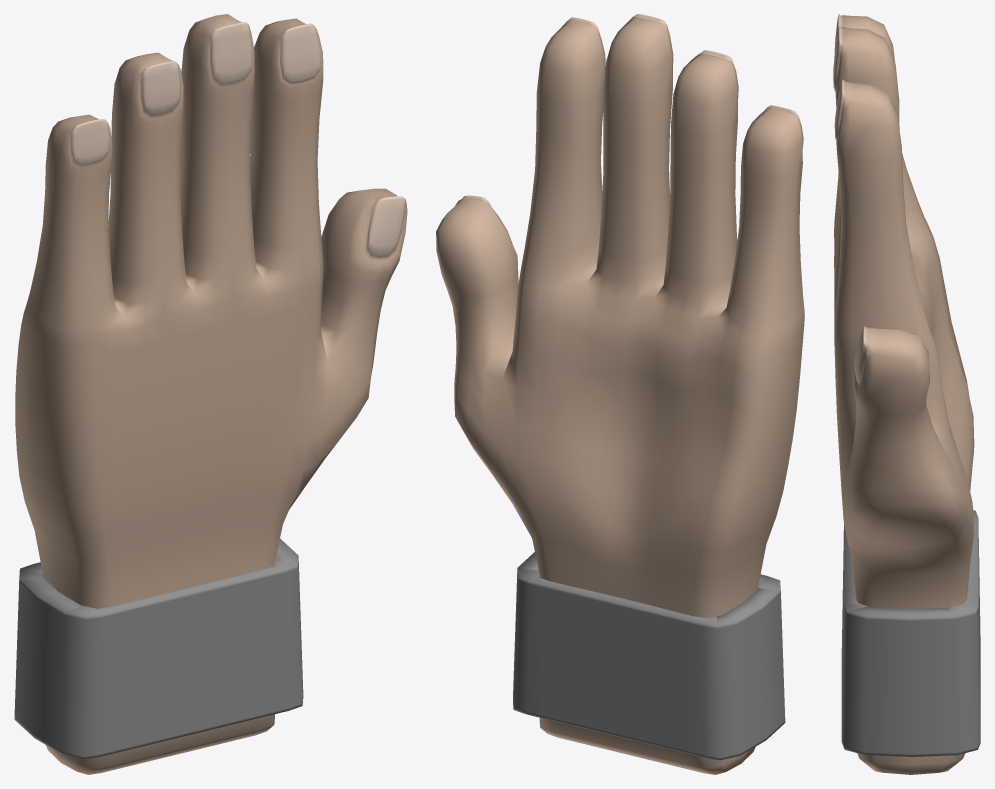
Rendered from leftHand.fbx.
The picture shows the model from 3 angles, left to right: view 1: azimuth 30°, elevation 25°; view 2: azimuth 150°, elevation 25°; view 3: azimuth 270°, elevation 25°; orthographic projection. The views are drawn at different scales.
Parts seen in each view (by area): view 1: leftHand, leftShackel; view 2: leftHand, leftShackel; view 3: leftHand, leftShackel.
Boxes of the visible parts, x1,y1,x2,y2 form: leftHand: [15, 14, 407, 774]; leftShackel: [14, 538, 303, 759]; leftHand: [436, 14, 804, 774]; leftShackel: [513, 552, 785, 760]; leftHand: [833, 14, 974, 774]; leftShackel: [841, 510, 980, 756].
Size of the model in its own units: 2.6 by 0.9365 by 5.02.
2 materials, 1 textured.
